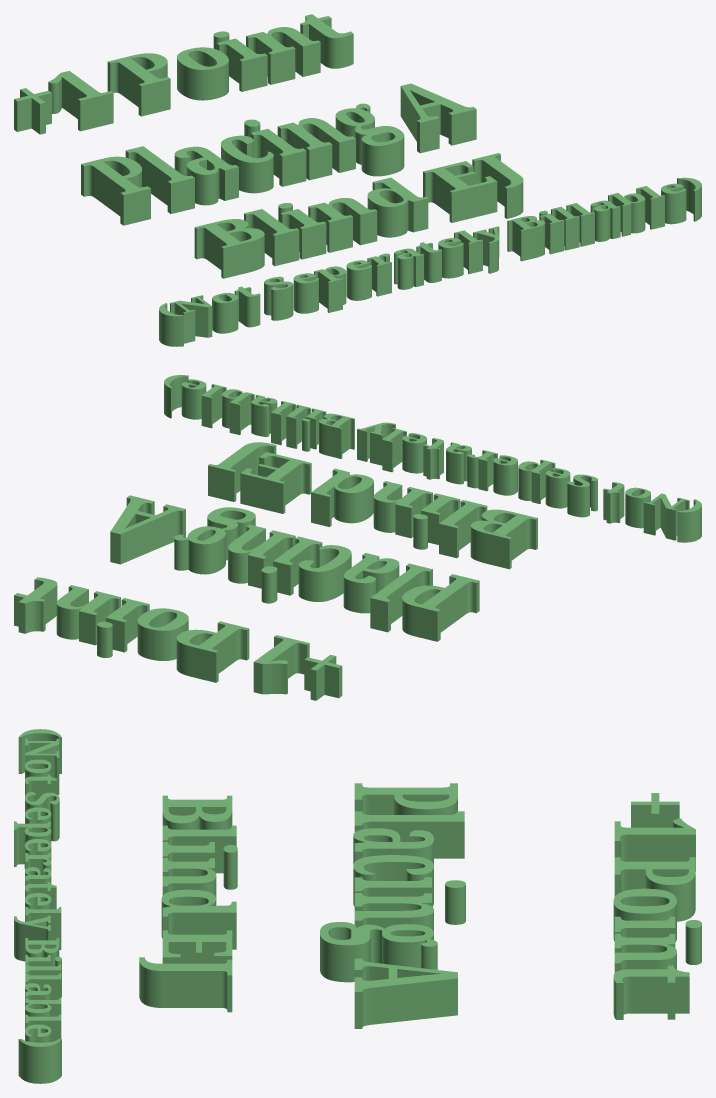
File: posej.gltf
The picture shows the model from 3 angles, top to bottom: view 1: azimuth 30°, elevation 25°; view 2: azimuth 150°, elevation 25°; view 3: azimuth 270°, elevation 25°; orthographic projection. The views are drawn at different scales.
Visible parts, largest first — view 1: Mesh_Mesh_head_geo001_lambert2SG001; view 2: Mesh_Mesh_head_geo001_lambert2SG001; view 3: Mesh_Mesh_head_geo001_lambert2SG001.
Boxes of the visible parts, x1=… form: Mesh_Mesh_head_geo001_lambert2SG001: x1=14, y1=14, x2=701, y2=346; Mesh_Mesh_head_geo001_lambert2SG001: x1=14, y1=375, x2=701, y2=700; Mesh_Mesh_head_geo001_lambert2SG001: x1=14, y1=729, x2=701, y2=1083.
Size of the model in its own units: 184 by 10 by 169.
